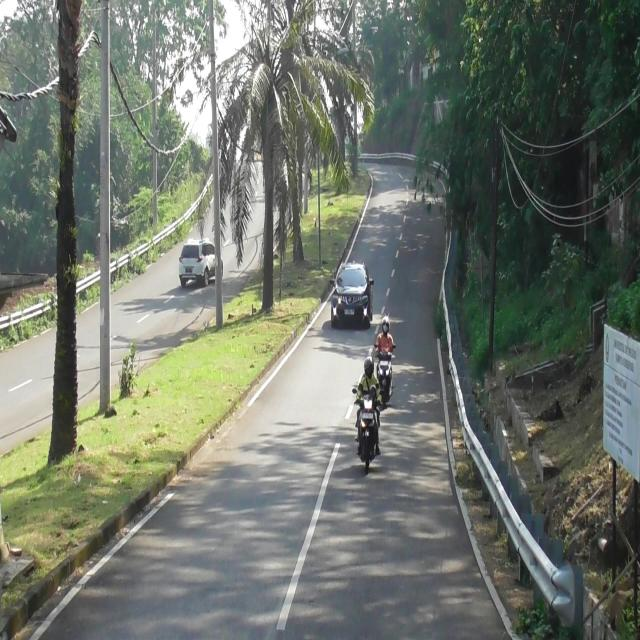motorcycle: (352, 386, 382, 466), (375, 342, 395, 403)
person: (355, 356, 381, 420), (376, 316, 396, 357)
rider_region: (354, 357, 382, 472), (377, 315, 394, 399)
